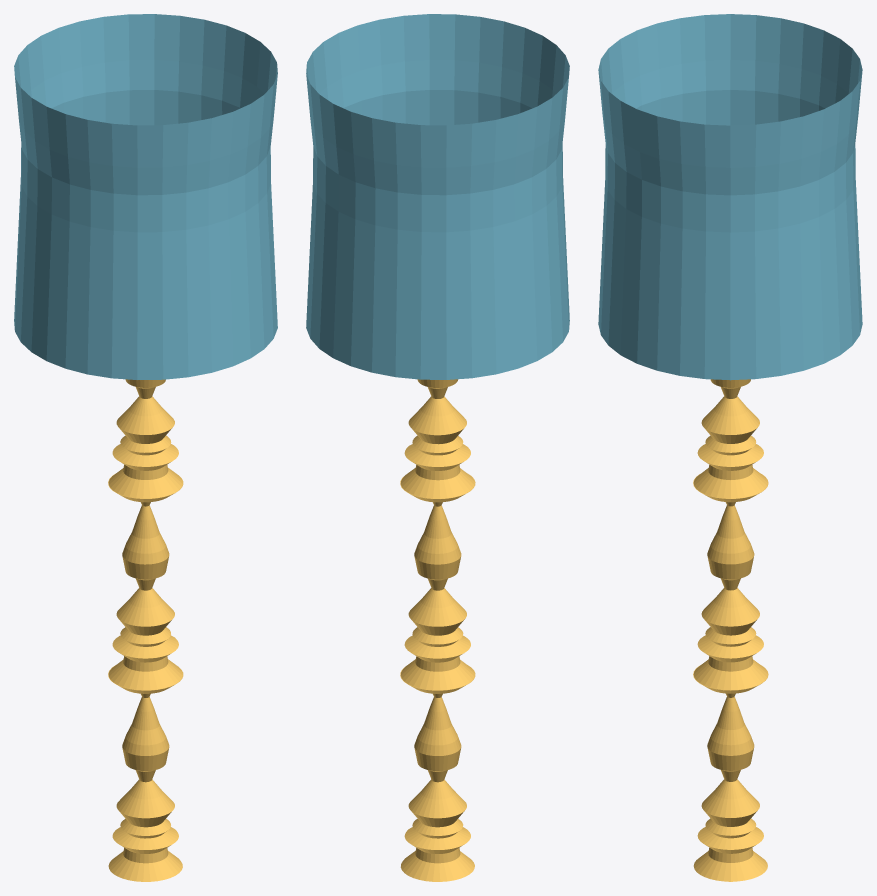
Rendered from lamp1MOD.glb.
3 views of the same model, side by side, from view 1: azimuth 30°, elevation 25°; view 2: azimuth 150°, elevation 25°; view 3: azimuth 270°, elevation 25° (orthographic).
Parts seen in each view (by area): view 1: LampShade, LampStand; view 2: LampShade, LampStand; view 3: LampShade, LampStand.
Boxes of the visible parts, x1,y1,x2,y2 form: LampShade: (14,14,277,379); LampStand: (108,379,183,881); LampShade: (306,14,569,379); LampStand: (400,379,475,881); LampShade: (598,14,862,380); LampStand: (693,379,768,881).
Size of the model in its own units: 7 by 23.27 by 7.
2 materials, 1 textured.
